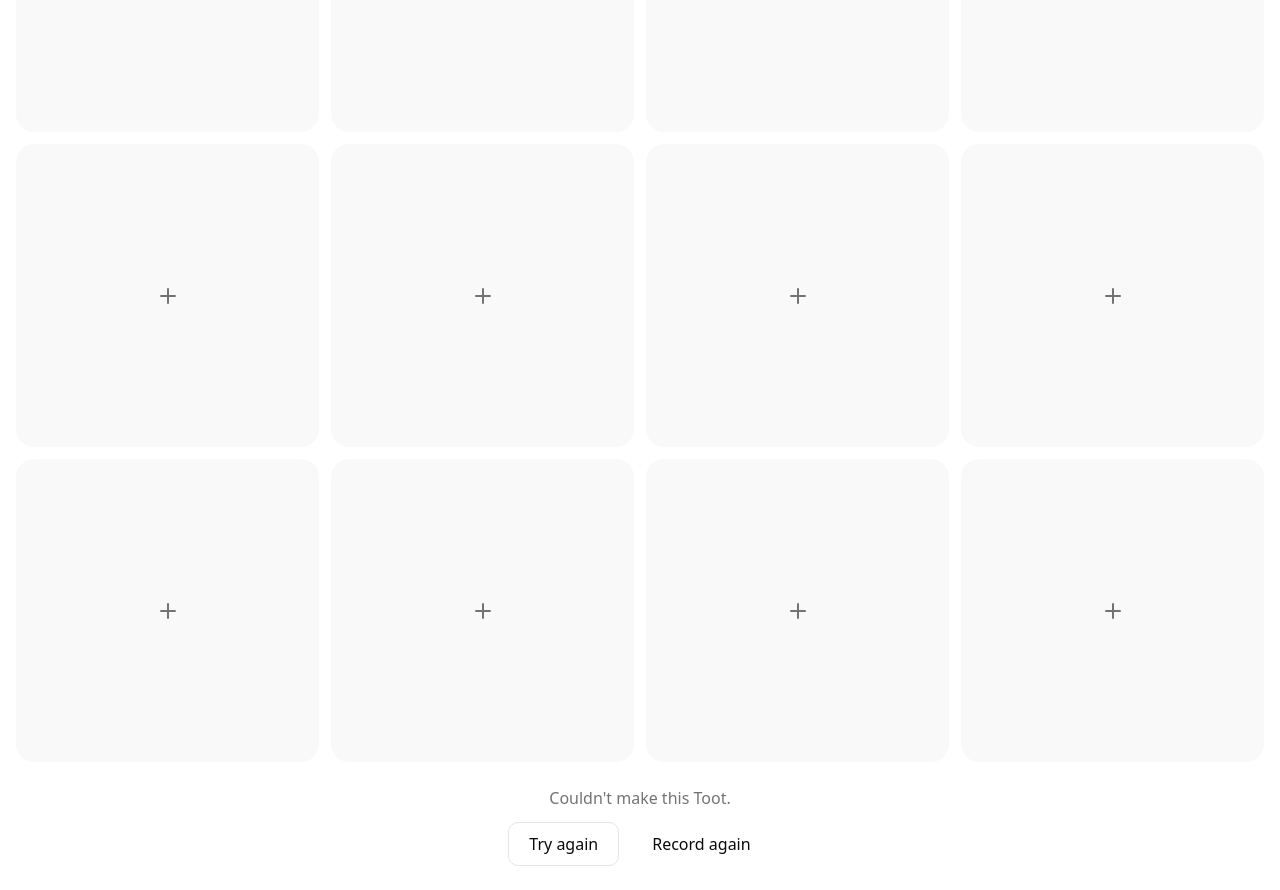
Test: a take on the Sound Pad › opened again › keeps a take it can’t make again where saving is paid, and offers to try again
The image size is (1280, 890).
(page scrolled)
Click the button "Try again". click: click(564, 844)
box: top-left (508, 822), bottom-right (619, 866)
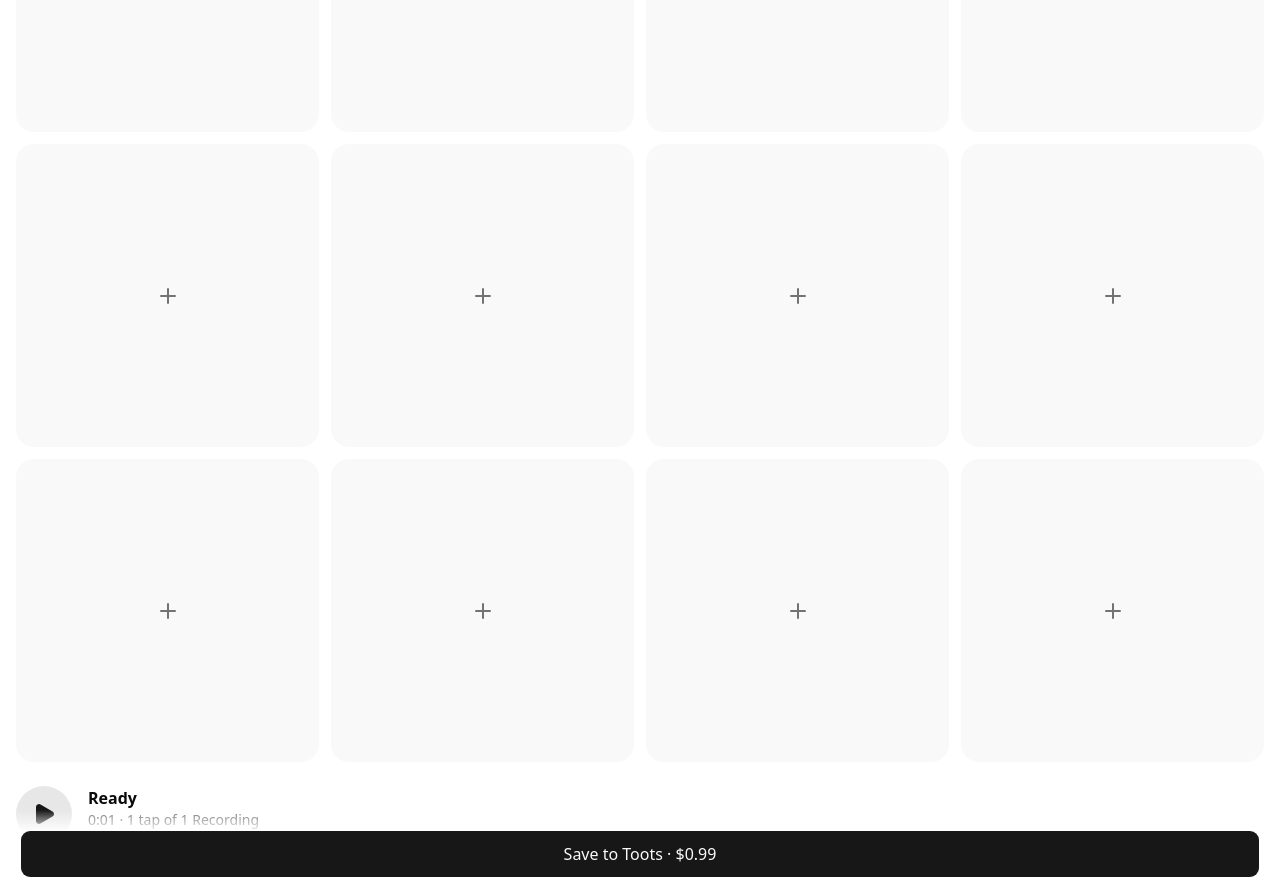
Now the text "Ready" is shown, box top-left (88, 787), bottom-right (137, 809)
